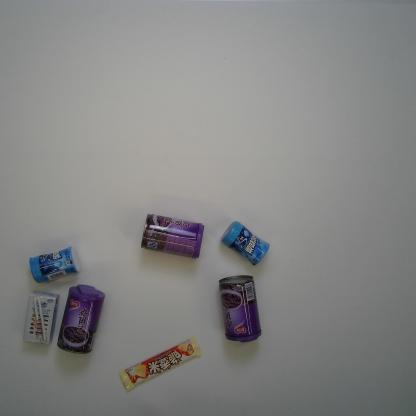Canned Food: (56, 283, 106, 355), (218, 272, 263, 342), (139, 214, 205, 260)
Chocolate: (118, 335, 202, 392)
Gum: (220, 220, 271, 266), (26, 245, 82, 284)
Milk: (22, 290, 61, 347)
